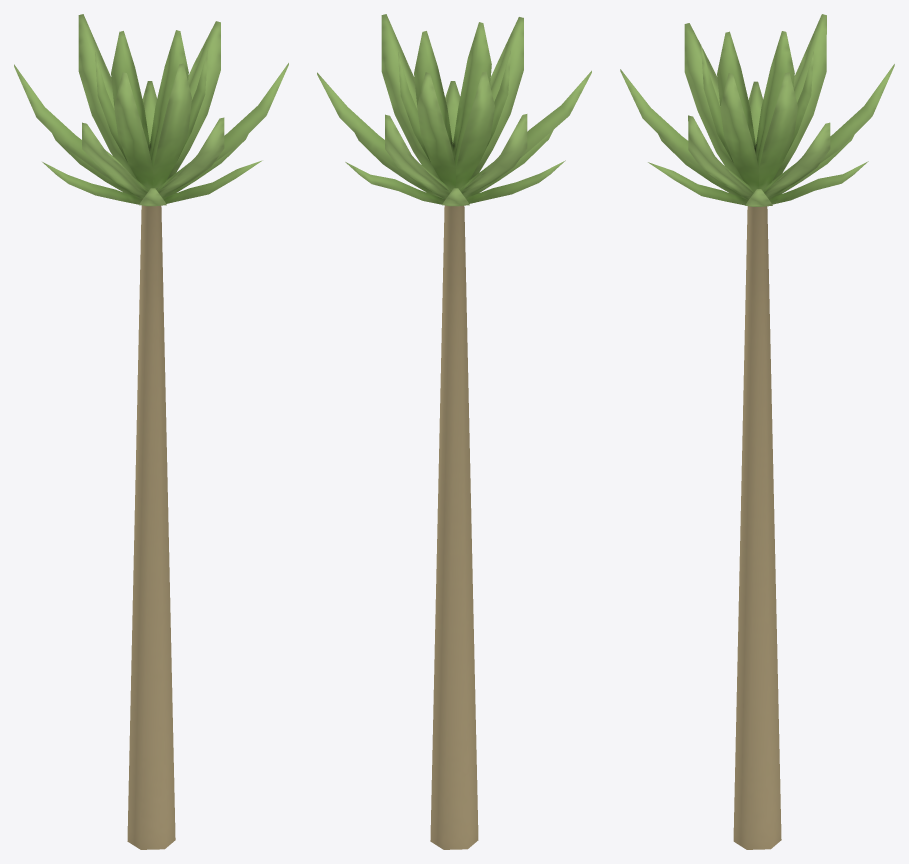
3 views of the same model, side by side, from view 1: azimuth 30°, elevation 25°; view 2: azimuth 150°, elevation 25°; view 3: azimuth 270°, elevation 25° (orthographic).
Visible parts, largest first — view 1: Palm2.001; view 2: Palm2.001; view 3: Palm2.001.
Part boxes in pixels (bbox=[...]): Palm2.001: bbox=[14, 14, 288, 849]; Palm2.001: bbox=[317, 14, 591, 849]; Palm2.001: bbox=[620, 14, 894, 849].
Size of the model in its own units: 4.91 by 17 by 5.31.
Materials: 1 (1 with a texture image).
